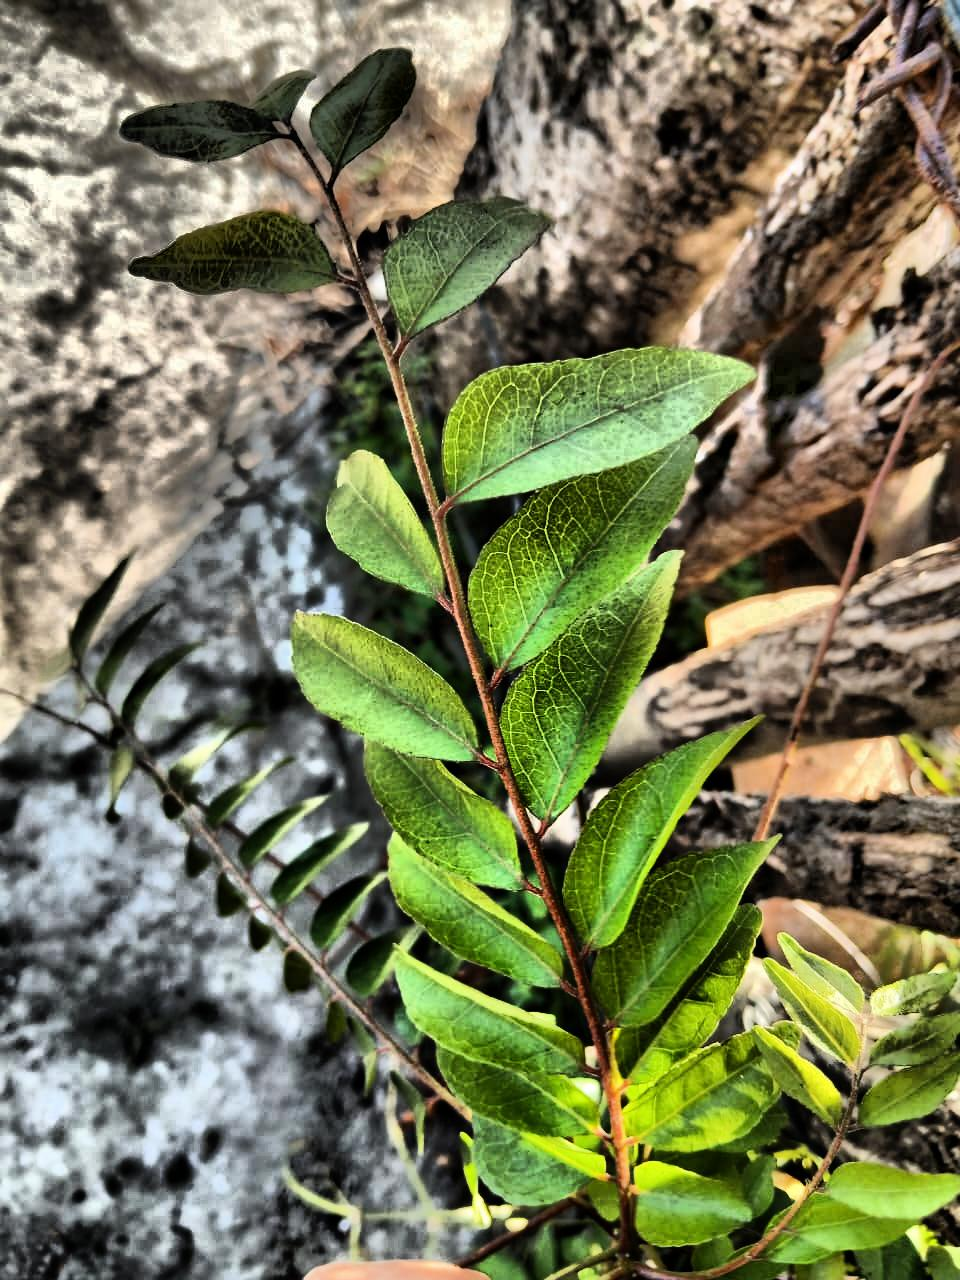daun kari: (130, 50, 956, 1279)
